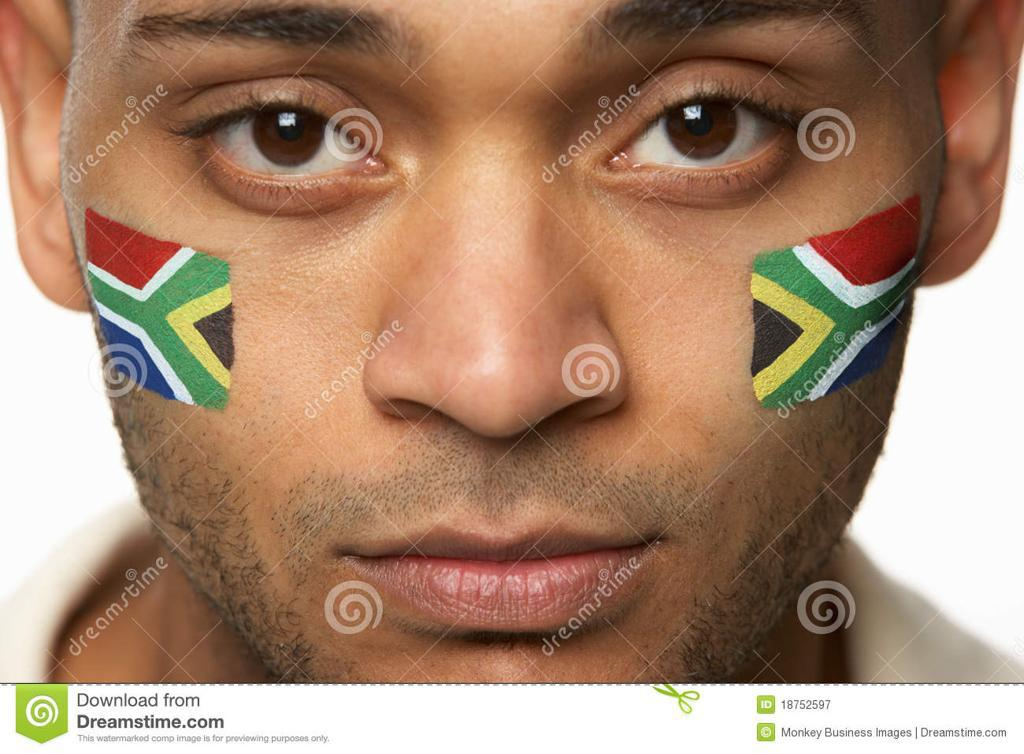face: (65, 29, 925, 689)
